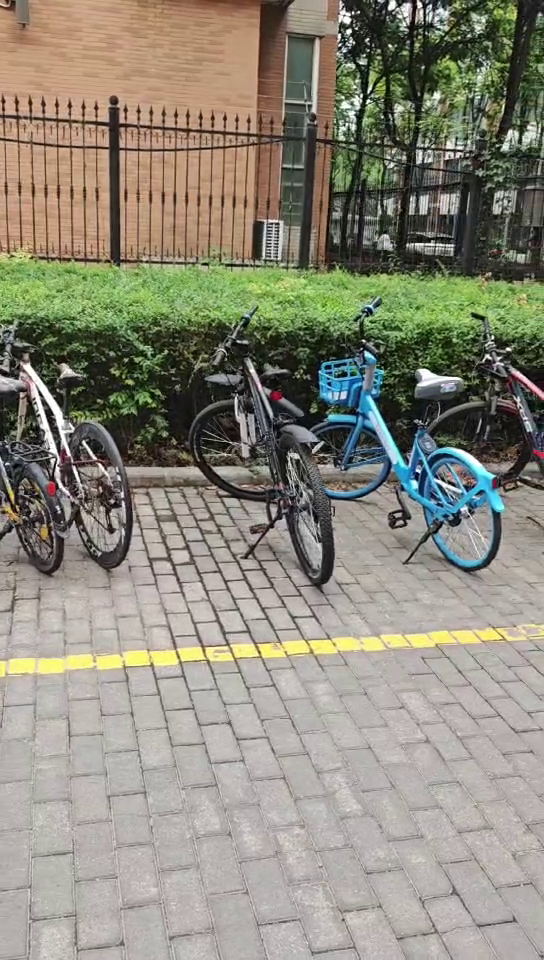others: (177, 306, 332, 600), (10, 311, 149, 568), (450, 310, 544, 530)
shared_bike_haluo: (316, 301, 494, 585)
